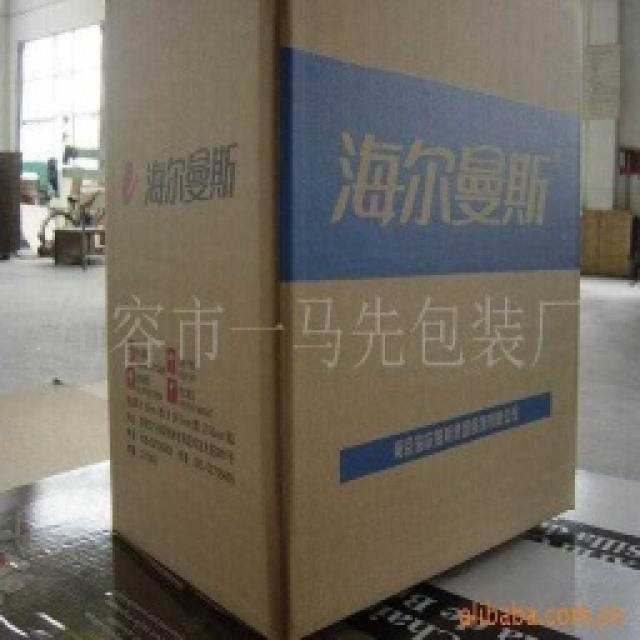box: (104, 5, 596, 640)
